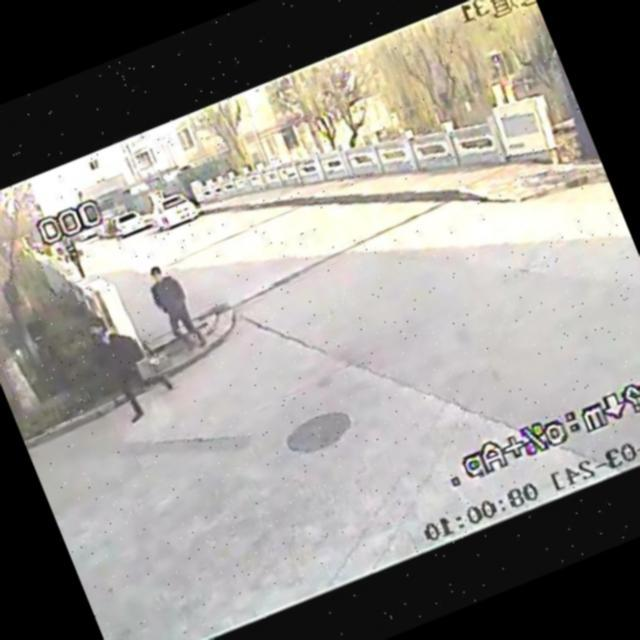person: (78, 294, 183, 430), (137, 249, 210, 360), (56, 230, 95, 284), (102, 215, 128, 250), (48, 237, 67, 263)
